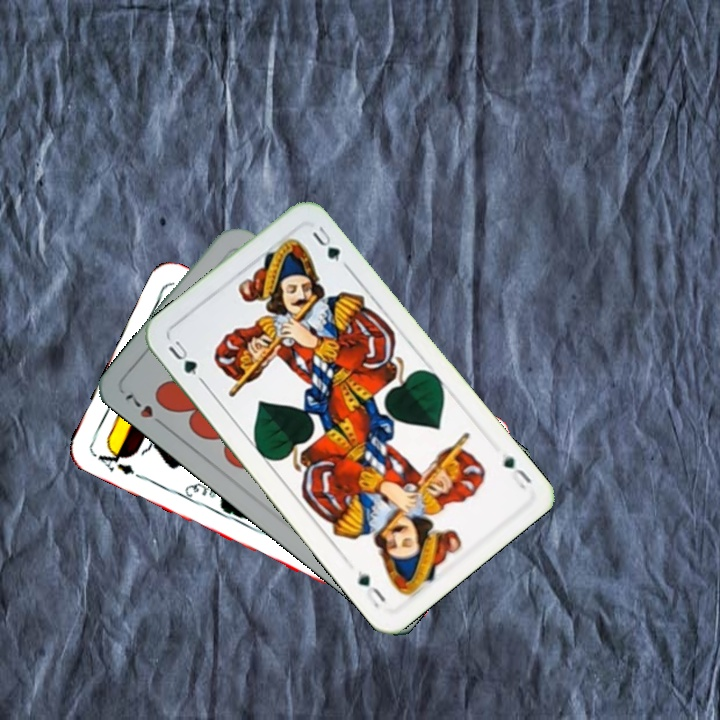EA: (93, 443, 137, 478)
GU: (164, 336, 201, 378), (499, 451, 534, 492)
H7: (120, 387, 169, 431)
